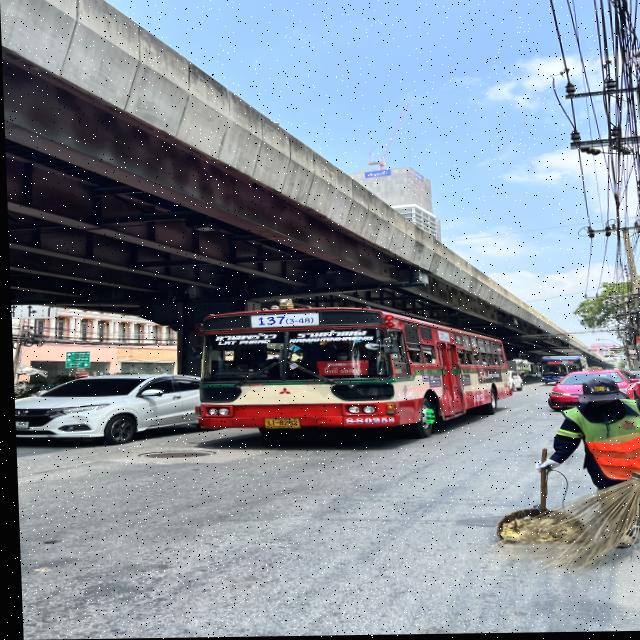BMTA-bus: (175, 293, 520, 447)
Bus-Line-Number: (248, 314, 316, 327), (564, 361, 572, 366)
Destination-Sign-Extra-Bus: (315, 359, 368, 376)
Destination-Sign-Normal: (544, 362, 564, 366)
TSB-Bus: (533, 356, 587, 386)
